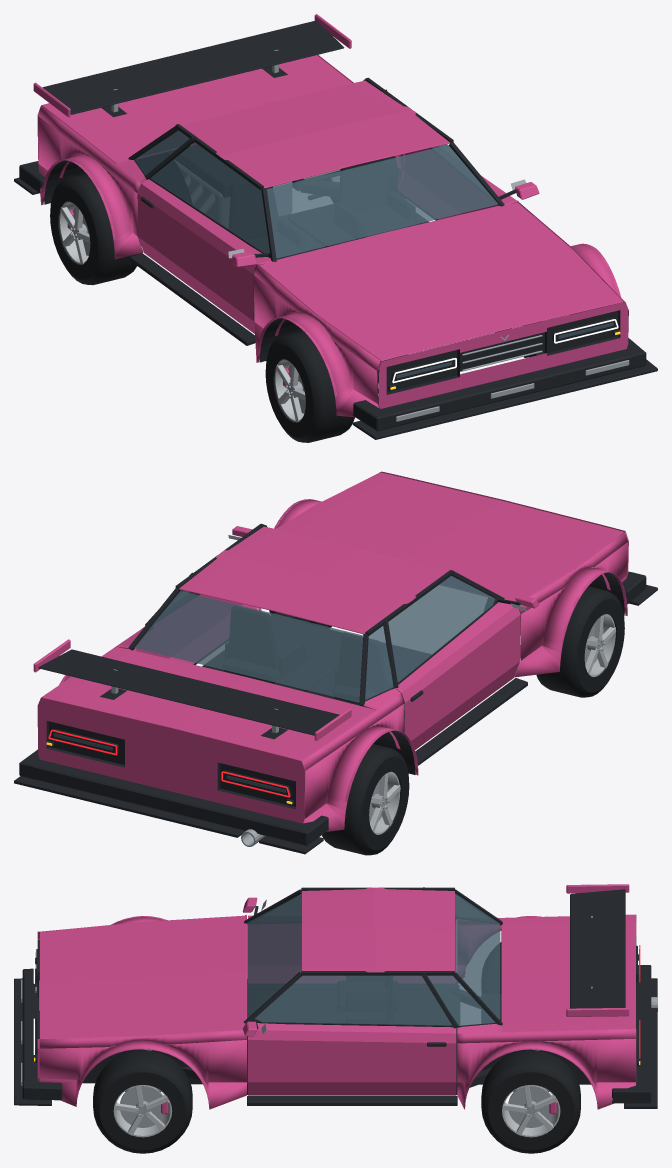
File: racer-r001.glb
The picture shows the model from 3 angles, top to bottom: view 1: azimuth 30°, elevation 25°; view 2: azimuth 150°, elevation 25°; view 3: azimuth 270°, elevation 25°; orthographic projection. The views are drawn at different scales.
Parts seen in each view (by area): view 1: hood.paint, roof.paint, windshield.glass, trunk.paint, spoiler.dark, right-door.paint, front-bumper.dark, right-front-fender.paint, front-grille.paint, right-window.glass, right-rear-quarter.paint, wheel:1.rubber (+20 smaller); view 2: hood.paint, roof.paint, rear-window.glass, rear-panel.paint, trunk.paint, right-door.paint, rear-bumper.dark, spoiler.dark, right-front-fender.paint, right-rear-quarter.paint, right-window.glass, frame.dark (+18 smaller); view 3: hood.paint, left-door.paint, roof.paint, trunk.paint, left-front-fender.paint, left-window.glass, left-rear-quarter.paint, spoiler.dark, frame.dark, wheel:0.rubber, wheel:2.rubber, windshield.glass (+22 smaller).
Boxes of the visible parts, x1,y1,x2,y2 form: hood.paint: (257,200,623,361); roof.paint: (181,80,449,188); windshield.glass: (267,145,498,258); trunk.paint: (42,55,352,183); spoiler.dark: (42,20,344,117); right-door.paint: (137,179,271,333); front-bumper.dark: (353,338,657,439); right-front-fender.paint: (253,265,380,417); front-grille.paint: (377,302,628,408); right-window.glass: (150,142,269,253); right-rear-quarter.paint: (37,105,143,259); wheel:1.rubber: (265,331,354,442); hood.paint: (277,472,623,601); roof.paint: (179,526,447,634); rear-window.glass: (134,591,363,702); rear-panel.paint: (37,697,305,823); trunk.paint: (42,629,400,760); right-door.paint: (395,602,520,749); rear-bumper.dark: (14,749,328,854); spoiler.dark: (38,649,339,739); right-front-fender.paint: (514,532,627,677); right-rear-quarter.paint: (302,693,418,831); right-window.glass: (388,576,495,682); frame.dark: (202,612,430,732); hood.paint: (39,914,246,1038); left-door.paint: (248,1023,456,1095); roof.paint: (301,887,454,972); trunk.paint: (457,915,635,1033); left-front-fender.paint: (39,1030,246,1109); left-window.glass: (255,975,451,1025); left-rear-quarter.paint: (457,1029,635,1109); spoiler.dark: (570,889,625,1008); frame.dark: (181,985,492,1094); wheel:0.rubber: (93,1049,192,1153); wheel:2.rubber: (481,1049,580,1153); windshield.glass: (247,894,301,1018).
Bounding box in the file's own units: 2.23 × 1.2 × 4.39.
